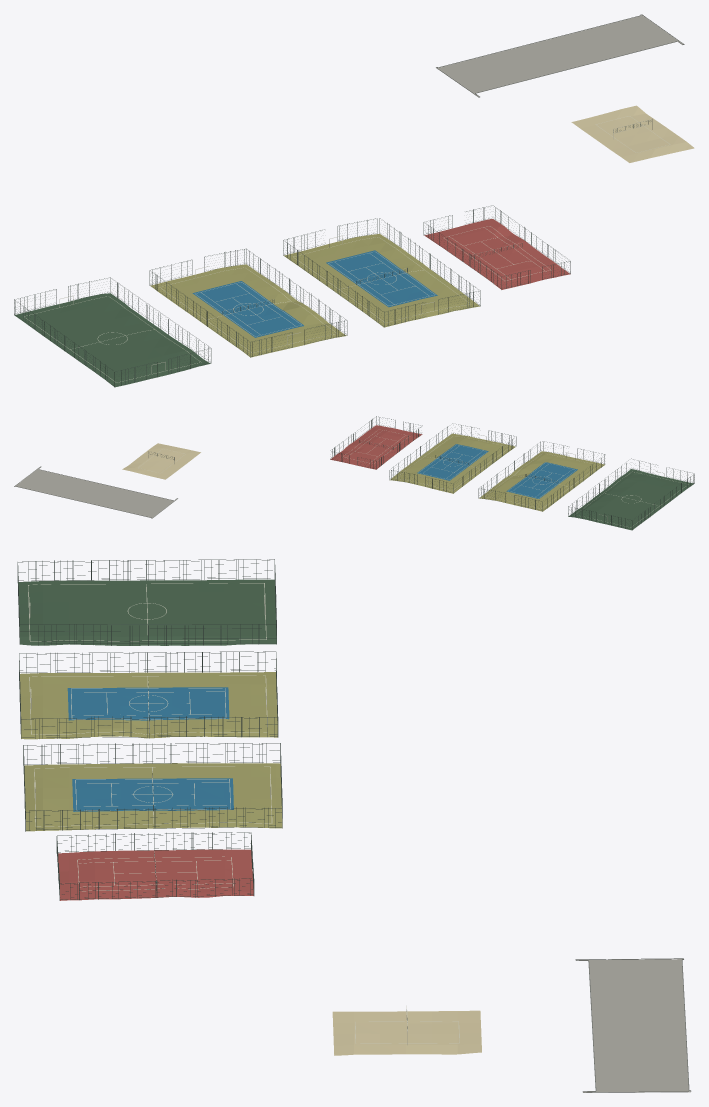
Rendered from campus-exterior-source.glb.
The picture shows the model from 3 angles, top to bottom: view 1: azimuth 30°, elevation 25°; view 2: azimuth 150°, elevation 25°; view 3: azimuth 270°, elevation 25°; orthographic projection. The views are drawn at different scales.
Visible parts, largest first — view 1: source court-41833989 turf both, source market-roof roof both, source court-108568385 ochre both, source court-41833990 ochre both, source court-108568430 red both, source court-293949918 sand both, source court-108568385 blue both, source court-41833990 blue both, source court-108568385 fence both, source court-41833989 fence both, source court-41833990 fence both, source court-108568385 paint near (+6 smaller); view 2: source court-41833989 turf both, source market-roof roof both, source court-41833990 ochre both, source court-108568385 ochre both, source court-108568430 red both, source court-293949918 sand both, source court-41833990 blue both, source court-108568385 blue both, source court-41833989 fence both, source court-108568385 fence both, source market-roof roofSeam both, source court-41833990 fence both (+7 smaller); view 3: source court-41833989 turf both, source market-roof roof both, source court-108568385 ochre both, source court-41833990 ochre both, source court-108568430 red both, source court-293949918 sand both, source court-41833990 blue both, source court-108568385 blue both, source court-41833989 fence both, source court-108568385 fence both, source court-41833990 fence both, source court-108568385 fence near (+6 smaller).
Part boxes in pixels (left/top/right/bottom): source court-41833989 turf both: left=14, top=293, right=210, bottom=387; source market-roof roof both: left=437, top=15, right=683, bottom=96; source court-108568385 ochre both: left=283, top=233, right=479, bottom=327; source court-41833990 ochre both: left=150, top=264, right=346, bottom=357; source court-108568430 red both: left=424, top=219, right=570, bottom=289; source court-293949918 sand both: left=571, top=105, right=694, bottom=162; source court-108568385 blue both: left=326, top=250, right=437, bottom=307; source court-41833990 blue both: left=192, top=281, right=303, bottom=337; source court-108568385 fence both: left=283, top=218, right=480, bottom=327; source court-41833989 fence both: left=14, top=277, right=211, bottom=387; source court-41833990 fence both: left=149, top=248, right=347, bottom=357; source court-108568385 paint near: left=293, top=237, right=469, bottom=322; source court-41833989 turf both: left=568, top=469, right=694, bottom=530; source market-roof roof both: left=15, top=467, right=177, bottom=518; source court-41833990 ochre both: left=479, top=451, right=604, bottom=511; source court-108568385 ochre both: left=390, top=433, right=515, bottom=493; source court-108568430 red both: left=330, top=425, right=422, bottom=469; source court-293949918 sand both: left=122, top=443, right=200, bottom=479; source court-41833990 blue both: left=506, top=462, right=577, bottom=498; source court-108568385 blue both: left=417, top=444, right=488, bottom=480; source court-41833989 fence both: left=568, top=458, right=694, bottom=530; source court-108568385 fence both: left=389, top=423, right=516, bottom=493; source market-roof roofSeam both: left=14, top=466, right=177, bottom=518; source court-41833990 fence both: left=478, top=441, right=605, bottom=511; source court-41833989 turf both: left=18, top=579, right=276, bottom=645; source market-roof roof both: left=579, top=959, right=690, bottom=1092; source court-108568385 ochre both: left=24, top=763, right=282, bottom=831; source court-41833990 ochre both: left=20, top=672, right=277, bottom=739; source court-108568430 red both: left=58, top=849, right=253, bottom=900; source court-293949918 sand both: left=332, top=1010, right=481, bottom=1055; source court-41833990 blue both: left=67, top=687, right=229, bottom=720; source court-108568385 blue both: left=72, top=778, right=233, bottom=811; source court-41833989 fence both: left=17, top=559, right=276, bottom=645; source court-108568385 fence both: left=23, top=743, right=282, bottom=831; source court-41833990 fence both: left=19, top=651, right=278, bottom=738; source court-108568385 fence near: left=24, top=743, right=282, bottom=830.
Bounding box in the file's own units: 183 × 8.25 × 104.
